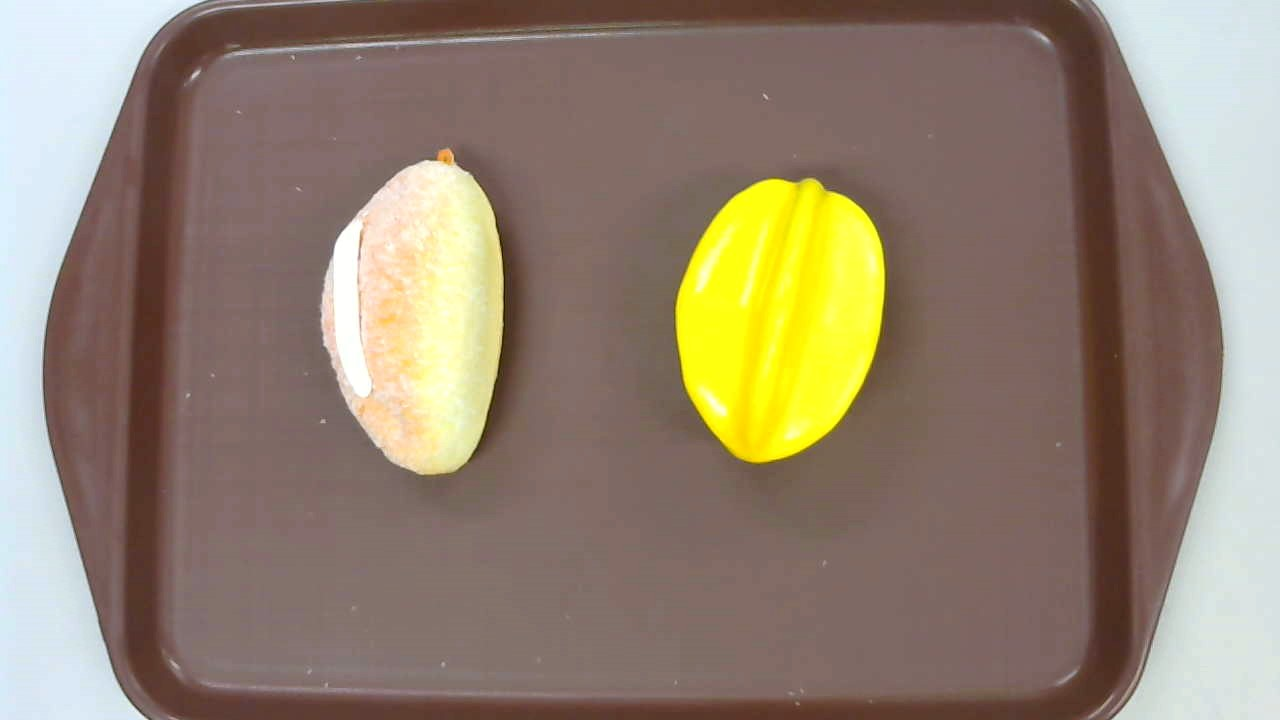coconut: (320, 147, 504, 474)
star fruit: (673, 178, 884, 463)
